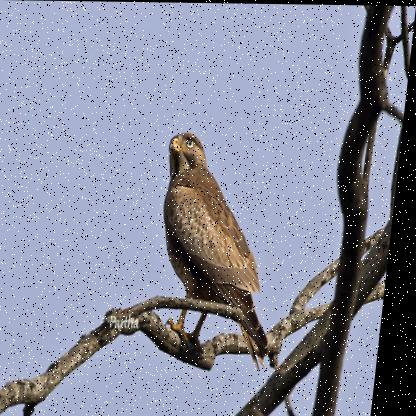Burung: (151, 132, 294, 372)
